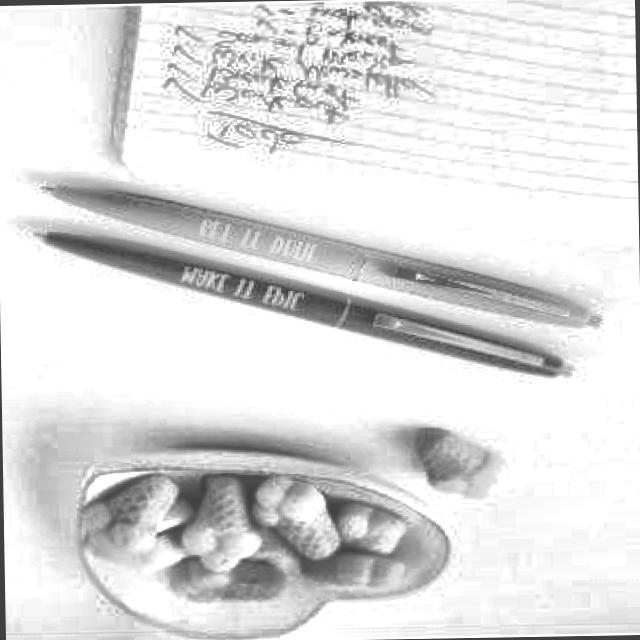Pen: (43, 182, 603, 326), (40, 229, 572, 376)
